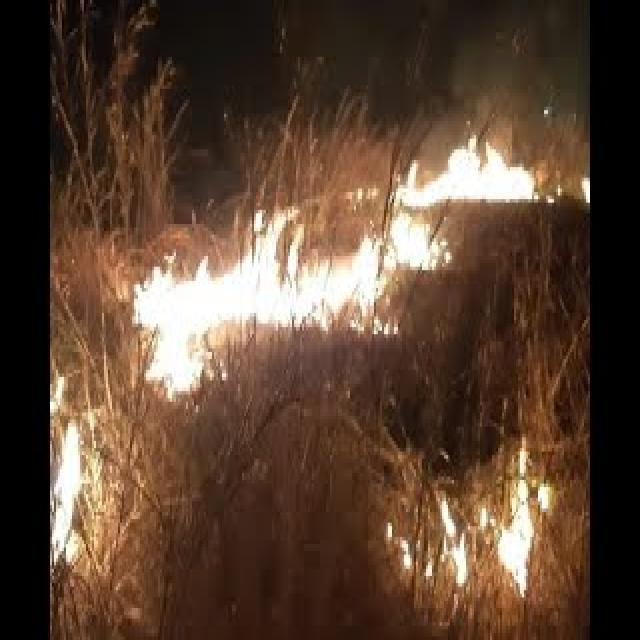Fire: (130, 220, 448, 398), (398, 138, 538, 200), (46, 416, 84, 558), (498, 472, 538, 590), (434, 498, 468, 584)
